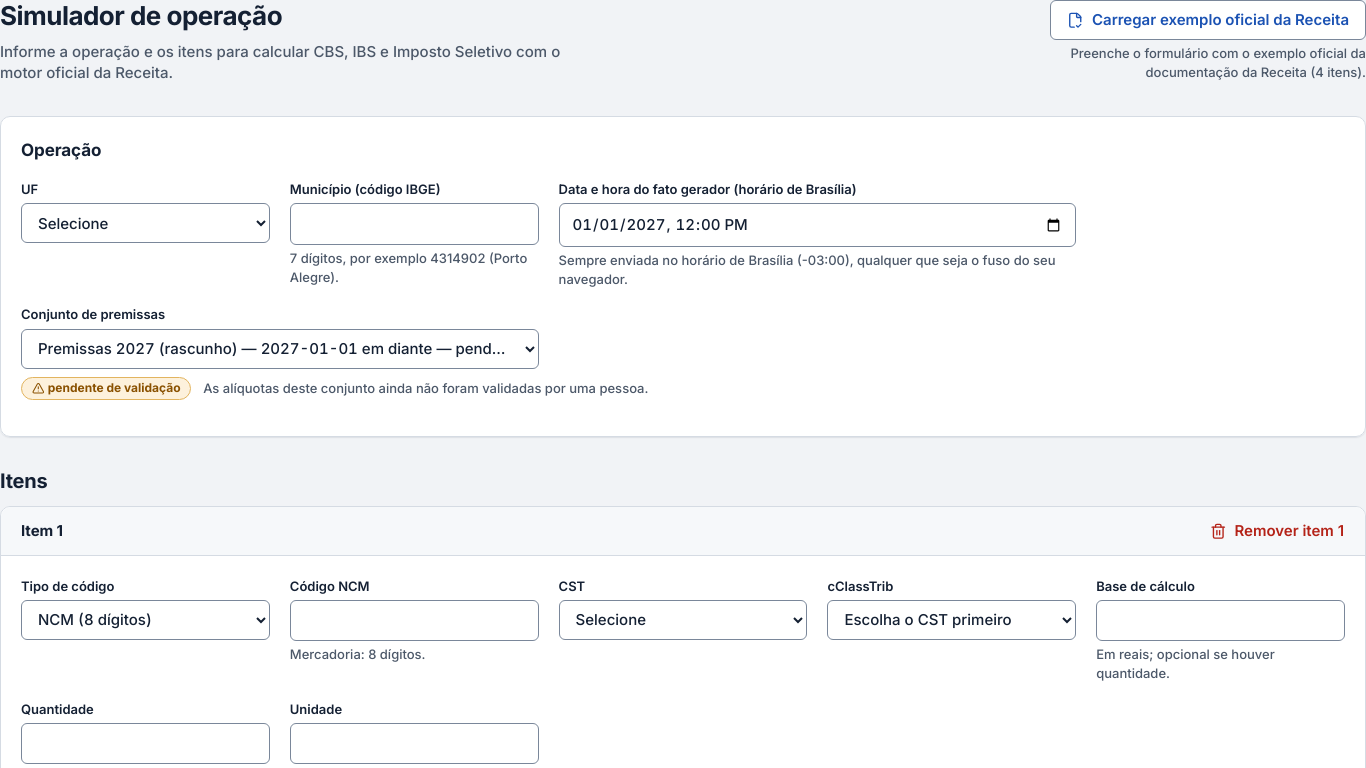
formulário › 'Carregar exemplo oficial da Receita' preenche 4 itens com o Imposto Seletivo do item 2
Check: the text "exemplo oficial da documentação da Receita" is shown, box [1070,45,1365,80]
Click the button "Carregar exemplo oficial da Receita".
click(1208, 20)  # box [1050,0,1365,40]
(page scrolled)
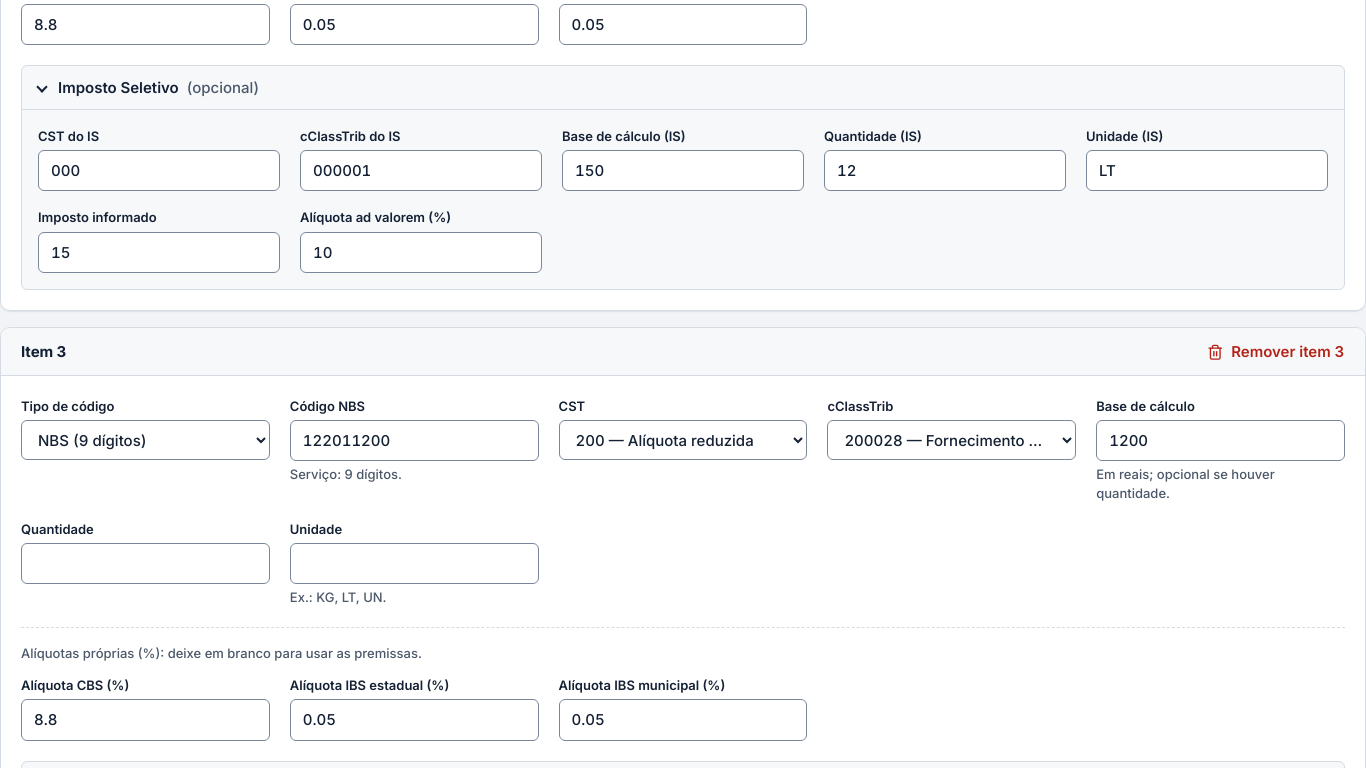
Check: the field labelled "Imposto informado" holds "15", box [38,232,280,273]
Check: the field labelled "Alíquota ad valorem (%)" holds "10", box [300,232,542,273]
Check: the dropdown labelled "Tipo de código" shows "NBS (9 dígitos)", box [21,420,270,460]
